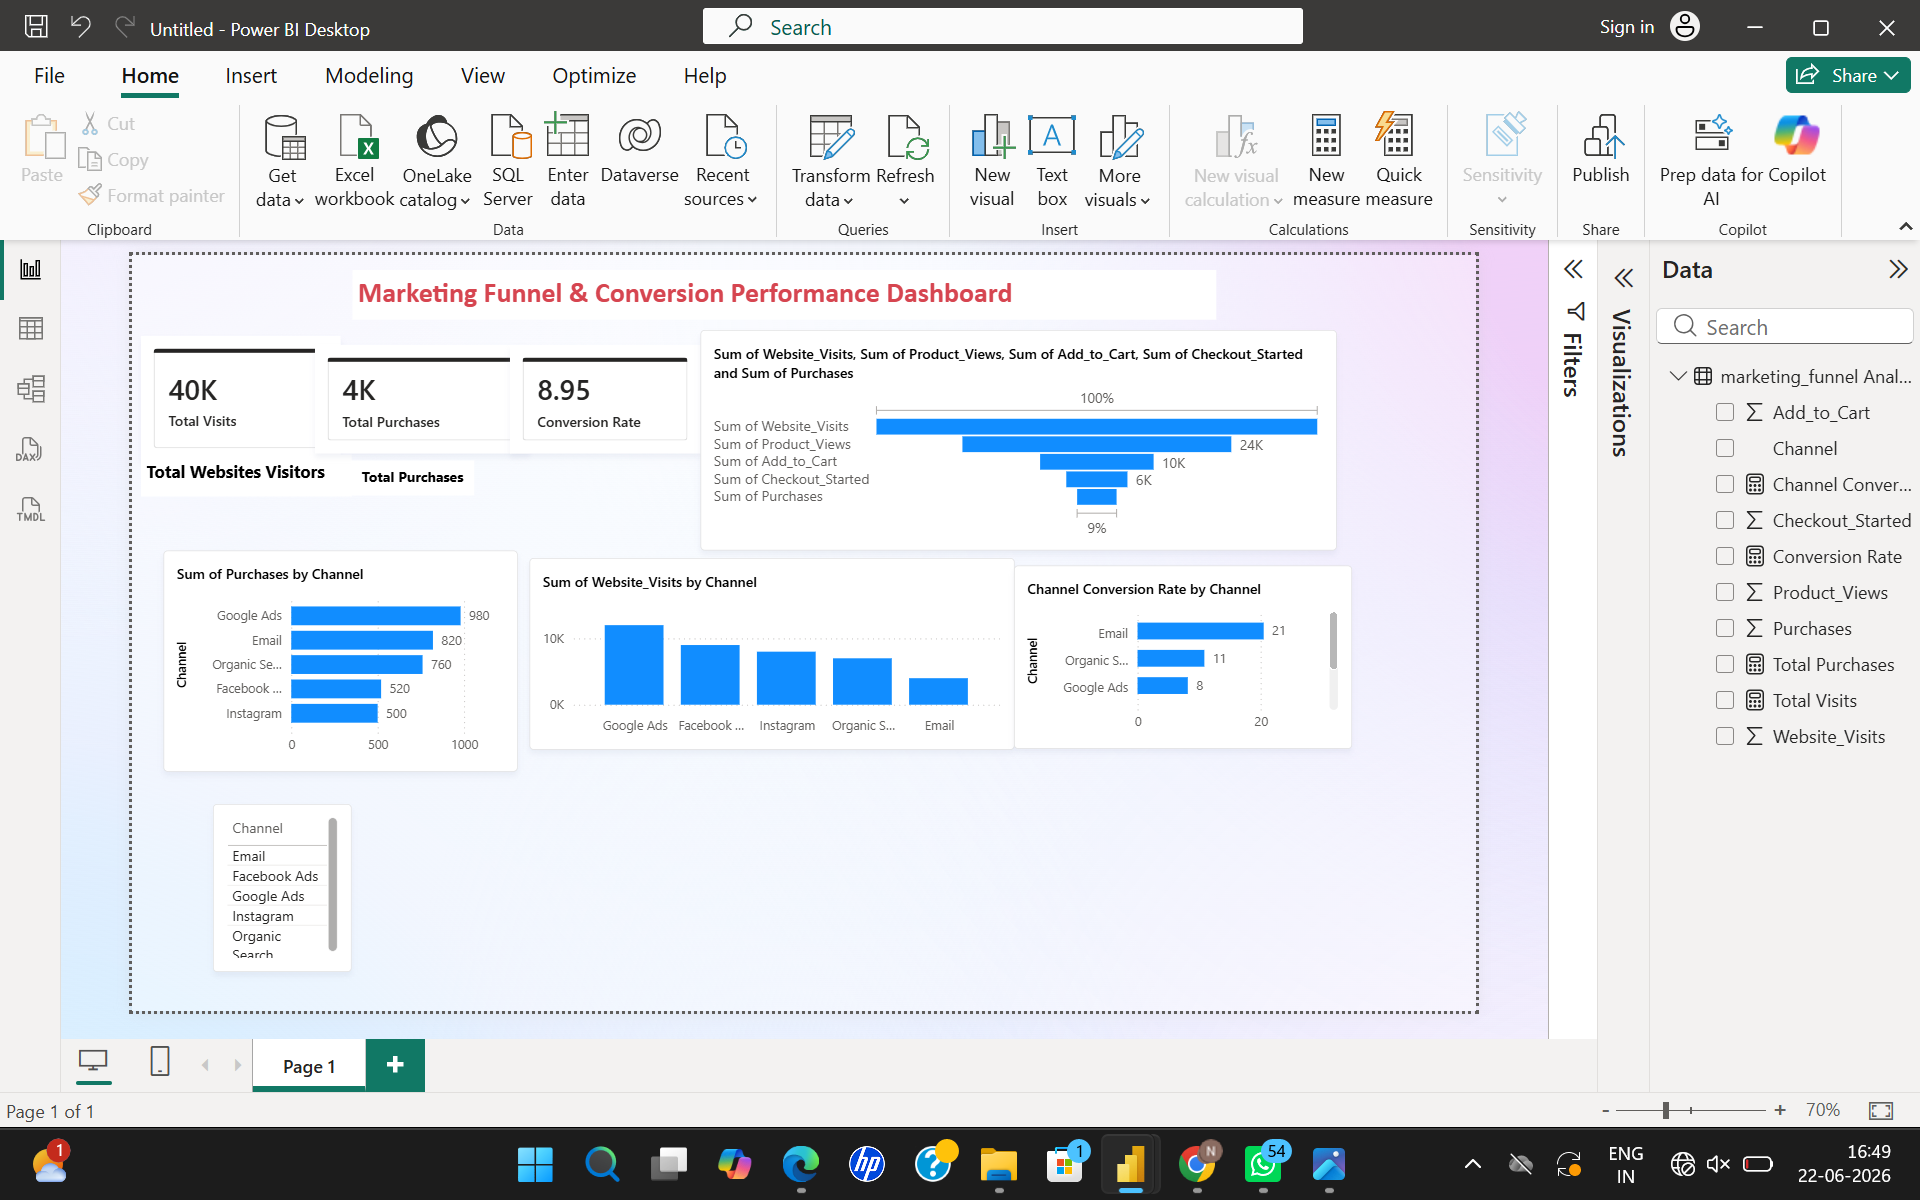

Layout of this report page (visuals, bound fields, positions):
{"tool":"powerbi","page":{"name":"Page 1","canvas":[1280,720],"ordinal":0},"visuals":[{"type":"cardVisual","fields":{"Data":["marketing_funnel Analysis.Total Visits"]},"box":[8.2,77.3,190.9,119.1],"z":0},{"type":"textbox","box":[8.2,190,200.9,40],"z":1},{"type":"cardVisual","fields":{"Data":["marketing_funnel Analysis.Total Purchases"]},"box":[173.6,86.4,204.5,103.6],"z":2},{"type":"textbox","box":[209.1,196.4,117.3,33.6],"z":3},{"type":"cardVisual","fields":{"Data":["marketing_funnel Analysis.Conversion Rate"]},"box":[360,86.4,181.8,103.6],"z":4},{"type":"funnel","fields":{"Y":["Sum(marketing_funnel Analysis.Website_Visits)","Sum(marketing_funnel Analysis.Product_Views)","Sum(marketing_funnel Analysis.Add_to_Cart)","Sum(marketing_funnel Analysis.Checkout_Started)","Sum(marketing_funnel Analysis.Purchases)"]},"box":[541.4,71.4,605.7,210],"z":5},{"type":"clusteredBarChart","fields":{"Category":["marketing_funnel Analysis.Channel"],"Y":["Sum(marketing_funnel Analysis.Purchases)"]},"box":[30,281.8,337.3,210.9],"z":6},{"type":"columnChart","fields":{"Category":["marketing_funnel Analysis.Channel"],"Y":["Sum(marketing_funnel Analysis.Website_Visits)"]},"box":[378.2,288.2,461.8,182.7],"z":7},{"type":"barChart","fields":{"Category":["marketing_funnel Analysis.Channel"],"Y":["marketing_funnel Analysis.Channel Conversion Rate"]},"box":[840,296.4,321.8,174.5],"z":8},{"type":"tableEx","fields":{"Values":["marketing_funnel Analysis.Channel"]},"box":[76.7,523.3,131.7,160],"z":9},{"type":"textbox","box":[210,14.3,822.9,47.1],"z":10}]}

Visuals, with their boxes on the page's 1280x720 design canvas (x1, y1, x2, y2). These are canvas units, not pixel positions in the 1920x1200 screenshot, which may show the page scaled, cropped or inside an application window:
cardVisual - marketing_funnel Analysis.Total Visits: 8 77 199 196
textbox: 8 190 209 230
cardVisual - marketing_funnel Analysis.Total Purchases: 174 86 378 190
textbox: 209 196 326 230
cardVisual - marketing_funnel Analysis.Conversion Rate: 360 86 542 190
funnel - Sum(marketing_funnel Analysis.Website_Visits) x Sum(marketing_funnel Analysis.Product_Views): 541 71 1147 281
clusteredBarChart - marketing_funnel Analysis.Channel x Sum(marketing_funnel Analysis.Purchases): 30 282 367 493
columnChart - marketing_funnel Analysis.Channel x Sum(marketing_funnel Analysis.Website_Visits): 378 288 840 471
barChart - marketing_funnel Analysis.Channel x marketing_funnel Analysis.Channel Conversion Rate: 840 296 1162 471
tableEx - marketing_funnel Analysis.Channel: 77 523 208 683
textbox: 210 14 1033 61
